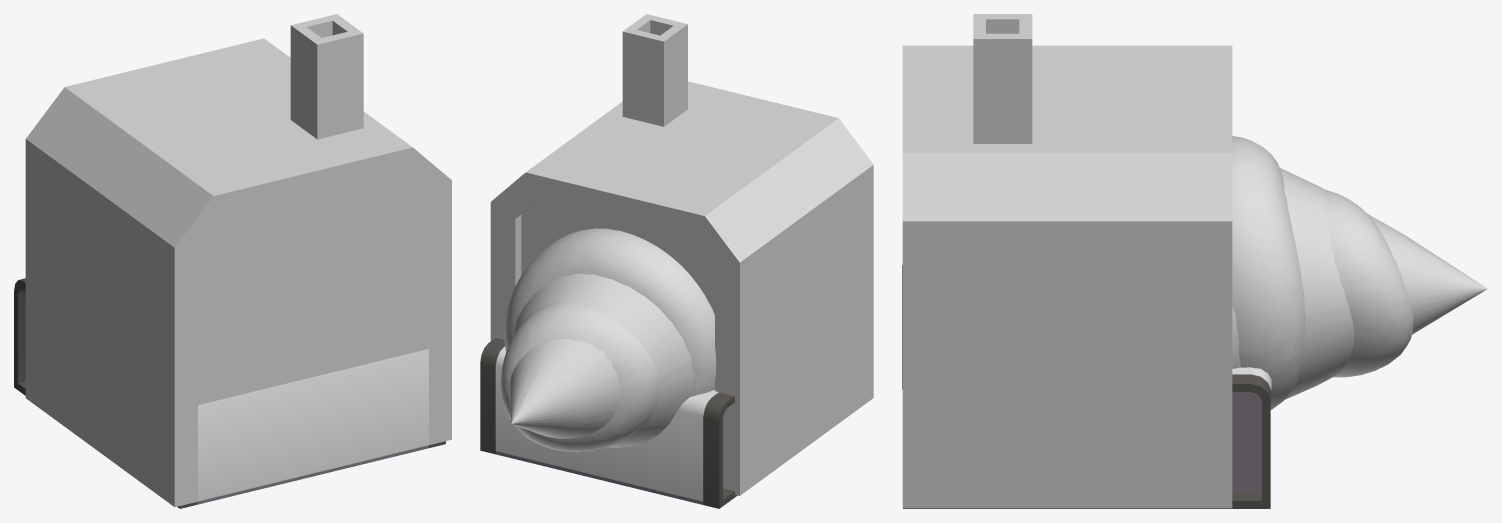
The model's file is Buildings.fbx.
3 views of the same model, side by side, from view 1: azimuth 30°, elevation 25°; view 2: azimuth 150°, elevation 25°; view 3: azimuth 270°, elevation 25° (orthographic). The views are drawn at different scales.
Parts seen in each view (by area): view 1: Drill, Conveyor; view 2: Drill, Conveyor; view 3: Drill, Conveyor.
Part boxes in pixels (x1,y1,x2,y2): Drill: (25, 14, 451, 506); Conveyor: (14, 278, 445, 508); Drill: (490, 14, 873, 495); Conveyor: (480, 338, 737, 508); Drill: (902, 14, 1487, 508); Conveyor: (902, 265, 1271, 508).
Size of the model in its own units: 193 by 319 by 266.
